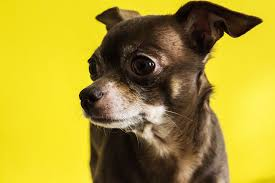chihuahua: (68, 1, 264, 183)
